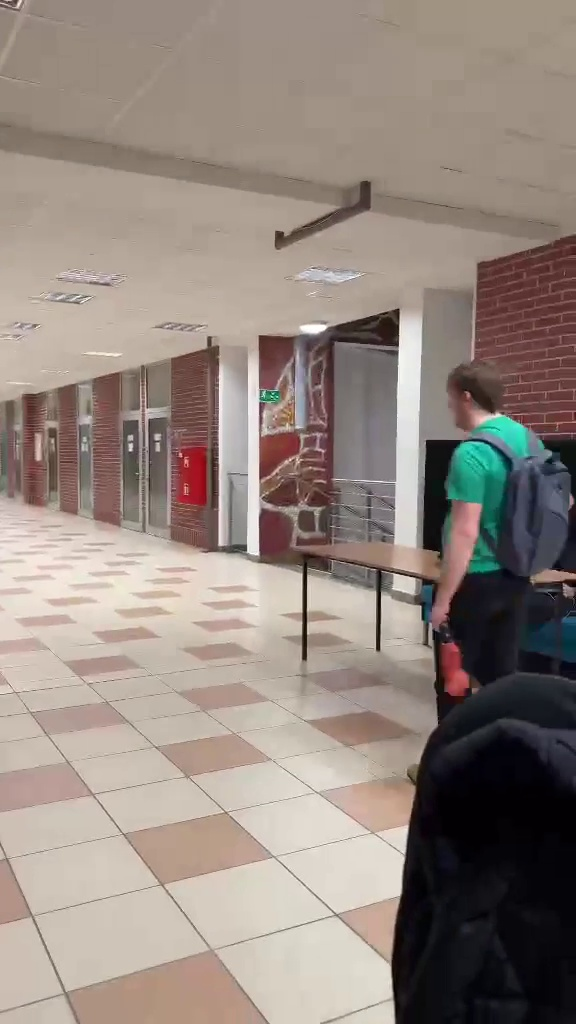no vest: (421, 353, 566, 706)
